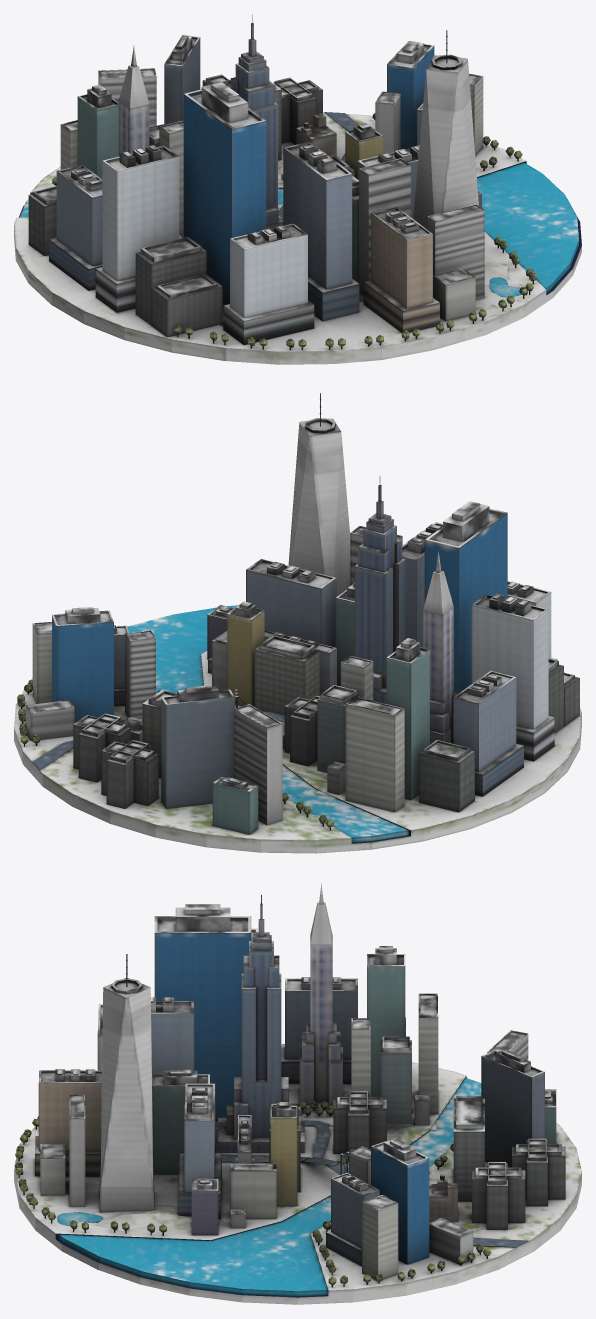
File: city-baked.dae
3 renders of one model, top to bottom at view 1: azimuth 30°, elevation 25°; view 2: azimuth 150°, elevation 25°; view 3: azimuth 270°, elevation 25°, orthographic.
Visible parts, largest first — view 1: clock_tower; view 2: clock_tower; view 3: clock_tower.
Part boxes in pixels (x1,y1,x2,y2): clock_tower: (14,14,581,364); clock_tower: (14,393,581,853); clock_tower: (14,883,581,1304).
Size of the model in its own units: 1.98 by 1.98 by 1.
Materials: 1 (1 with a texture image).
